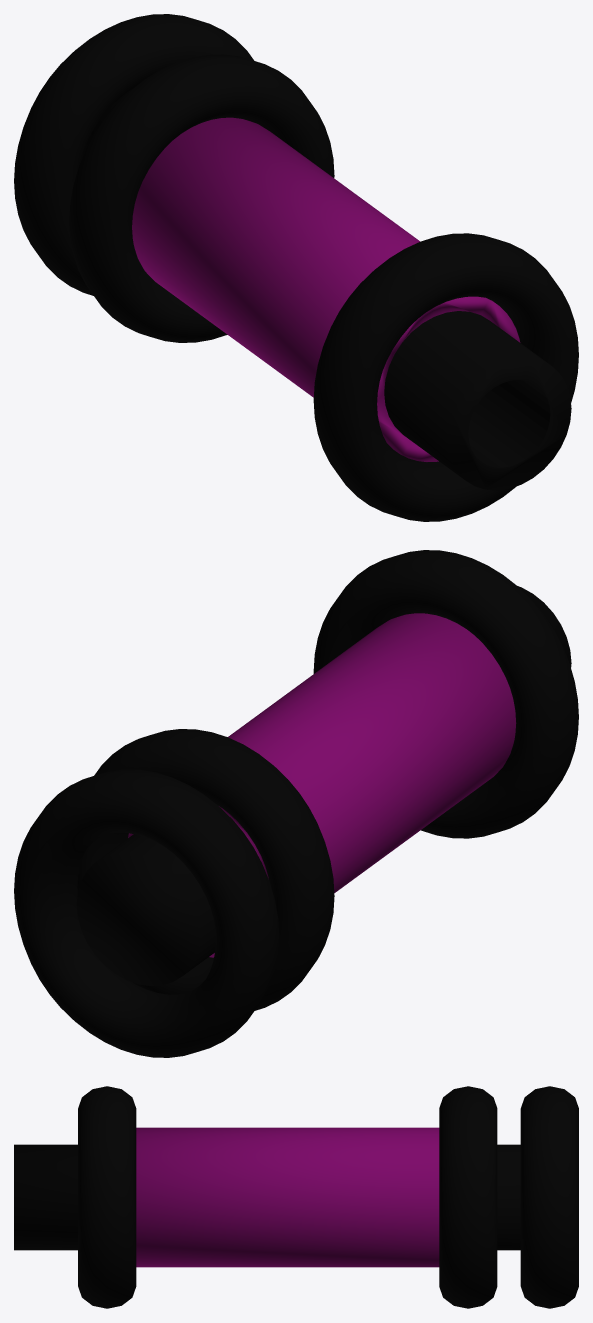
File: enemy_mech_weapon.glb
3 views of the same model, one above another, from view 1: azimuth 30°, elevation 25°; view 2: azimuth 150°, elevation 25°; view 3: azimuth 270°, elevation 25° (orthographic). The views are drawn at different scales.
Parts seen in each view (by area): view 1: Cylinder, Torus.026, Torus.028, Cylinder.009, Torus.027; view 2: Cylinder, Torus.027, Torus.026, Torus.028, Cylinder.009; view 3: Cylinder, Torus.026, Torus.027, Torus.028, Cylinder.009.
Part boxes in pixels (x1,y1,x2,y2): Cylinder: (132,117,520,461); Torus.026: (313,233,578,521); Torus.028: (69,54,334,342); Cylinder.009: (79,91,571,490); Torus.027: (14,14,253,295); Cylinder: (128,613,516,957); Torus.027: (14,769,279,1057); Torus.026: (313,550,578,838); Torus.028: (77,729,334,1010); Cylinder.009: (76,586,571,985); Cylinder: (136,1127,439,1267); Torus.026: (78,1086,136,1308); Torus.027: (520,1086,578,1308); Torus.028: (439,1086,497,1308); Cylinder.009: (14,1144,520,1250).
Bounding box in the file's own units: 1.85 × 1.92 × 4.85.
